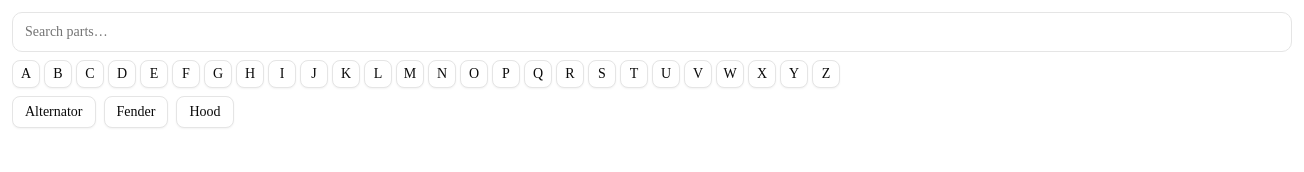
Test: TaxonomyPicker › typing a query live-filters the whole catalog, not just quick picks, and clears the active letter
The width and height of the screenshot is (1304, 172).
Click the button "H" at coordinates (250, 74), box [236,60,264,88]
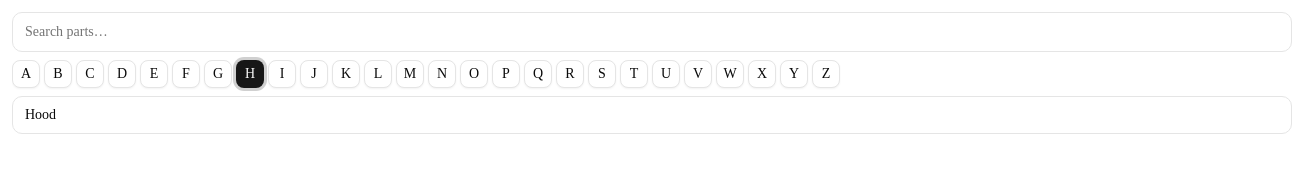
Type "front" into the field labelled "Search parts" at coordinates (652, 32), box [12,12,1292,52]
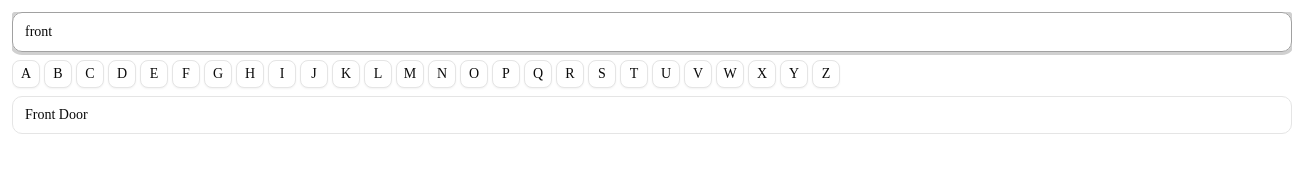
Now the option "Front Door" is shown, box [13,97,1291,133]
Now the option "Hood" is gone
